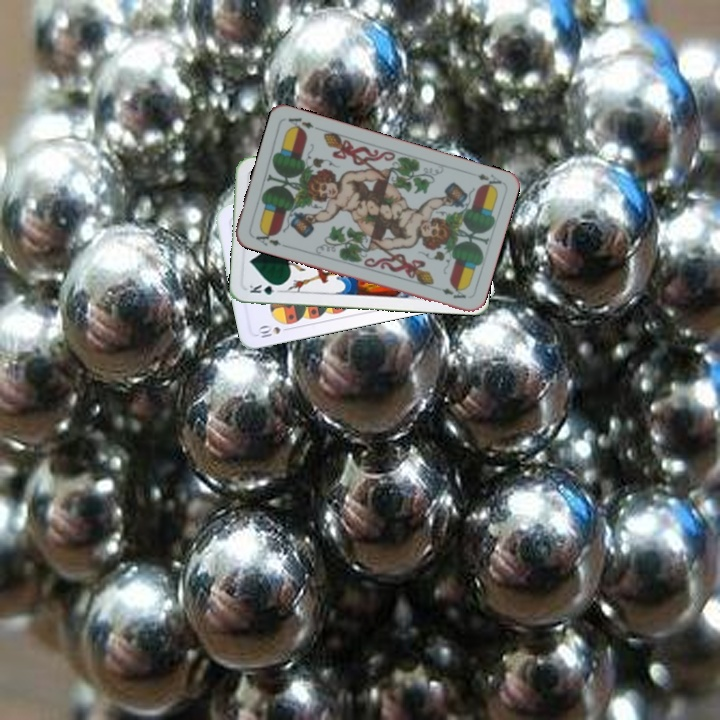EA: (248, 226, 288, 249), (473, 169, 504, 192)
GK: (245, 281, 285, 297)
S10: (253, 321, 294, 340)
